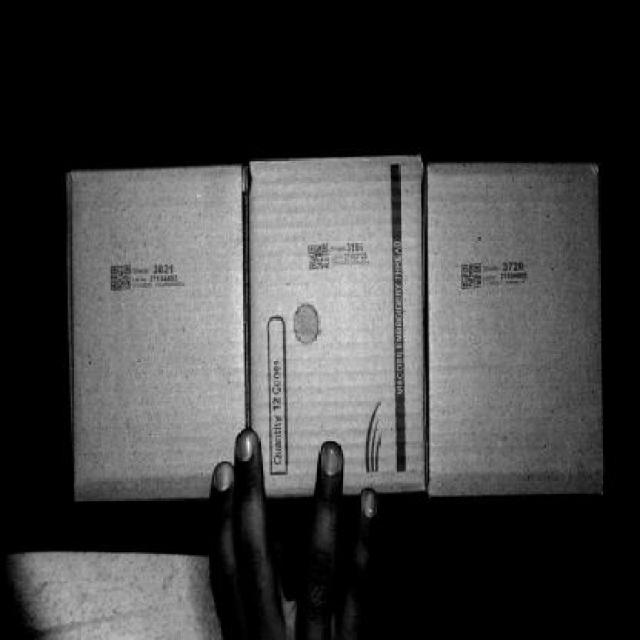cardboxes: (254, 166, 426, 491), (73, 171, 245, 495), (432, 166, 603, 489)
